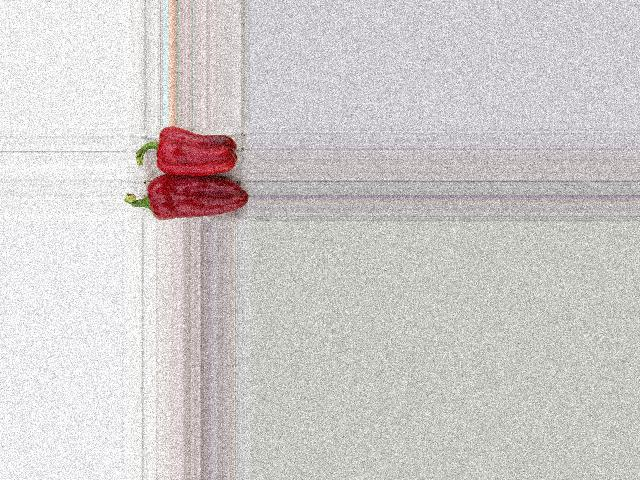bell_pepper: (120, 173, 248, 219)
